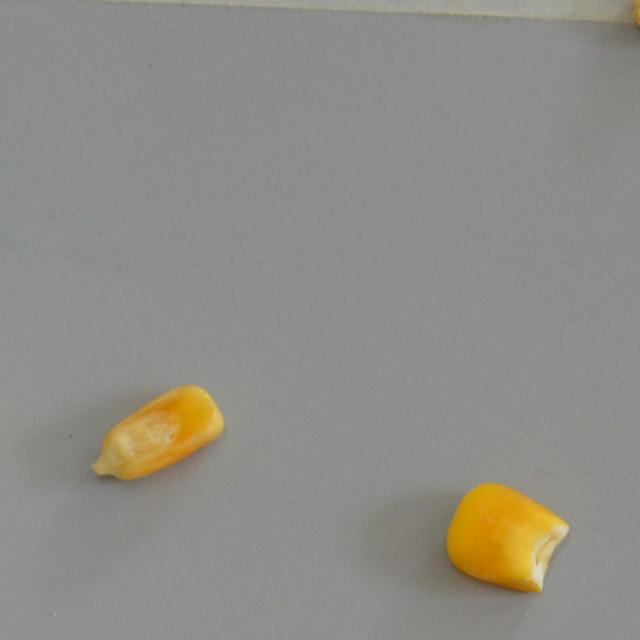entero: (86, 380, 228, 488)
pelicula: (442, 480, 571, 596), (628, 0, 640, 41)
